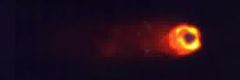keyhole: (181, 30, 199, 45)
